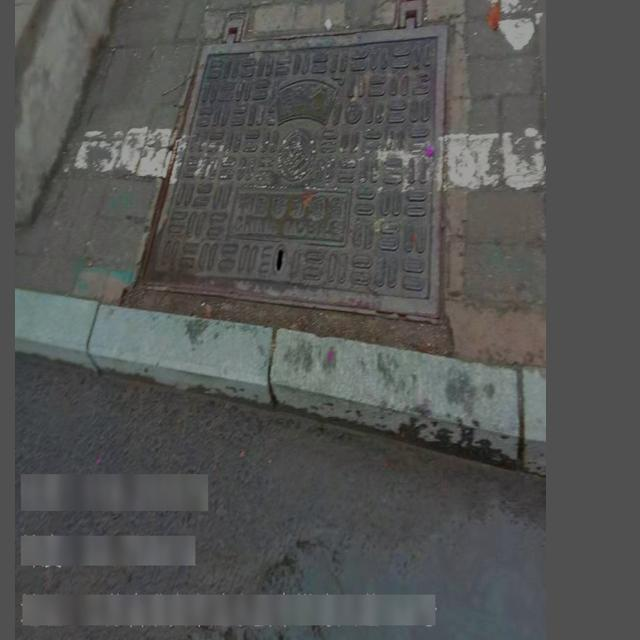good: (141, 0, 448, 330)
